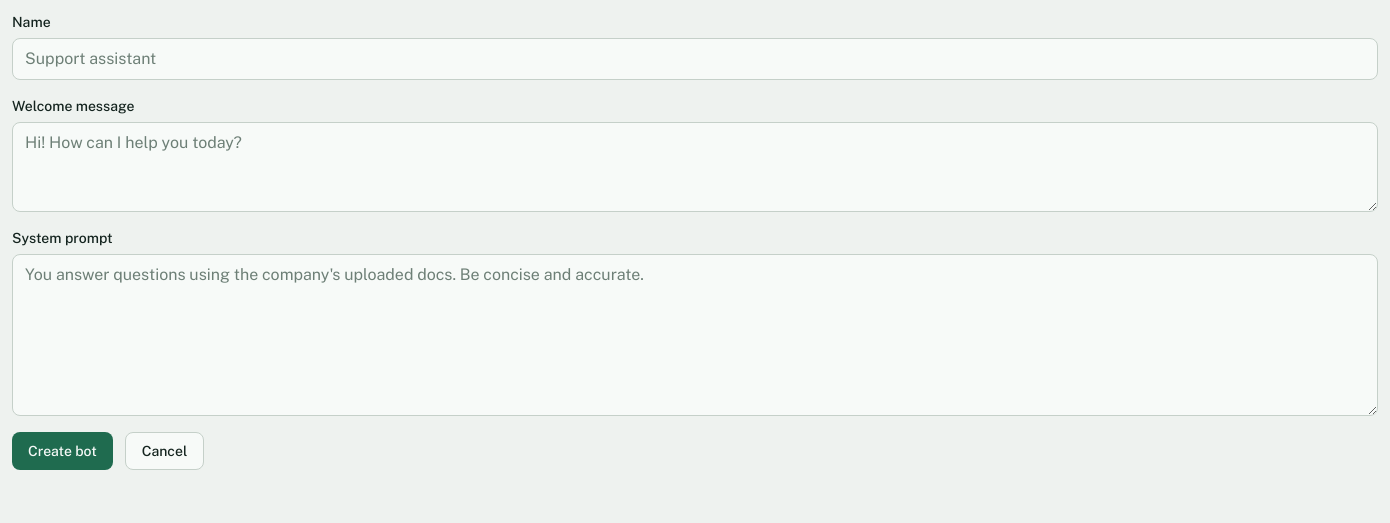
it: CreateBotForm › shows the action's error when creation fails
The width and height of the screenshot is (1390, 523).
Type "Too many bots" into the field labelled "Name". click: (695, 59)
box: [12,38,1378,80]
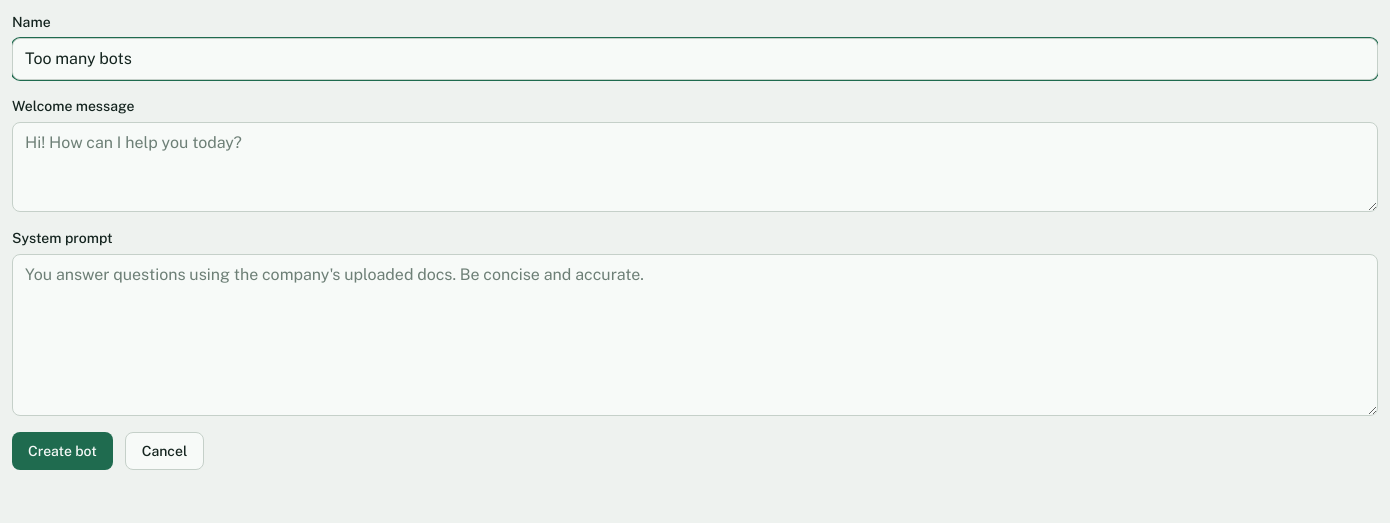
Click the button "Create bot". click: (62, 451)
box: [12,432,113,470]
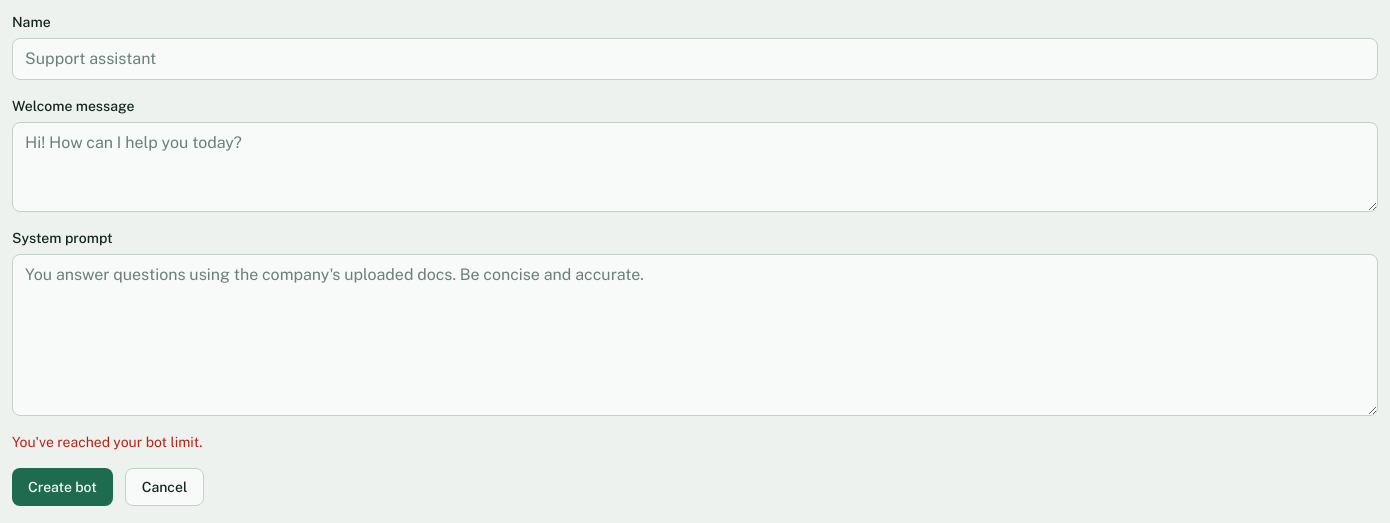
Now the message reads "You've reached your bot limit.", box [12,434,202,450]
